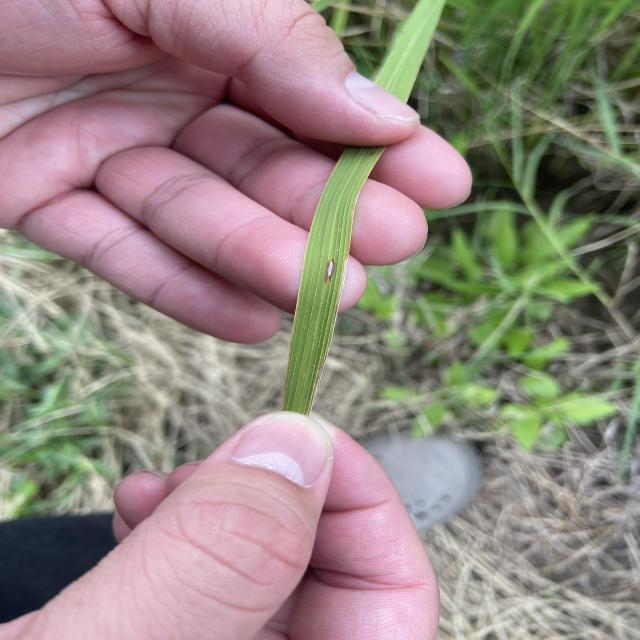Dao on: (325, 259, 334, 283)
